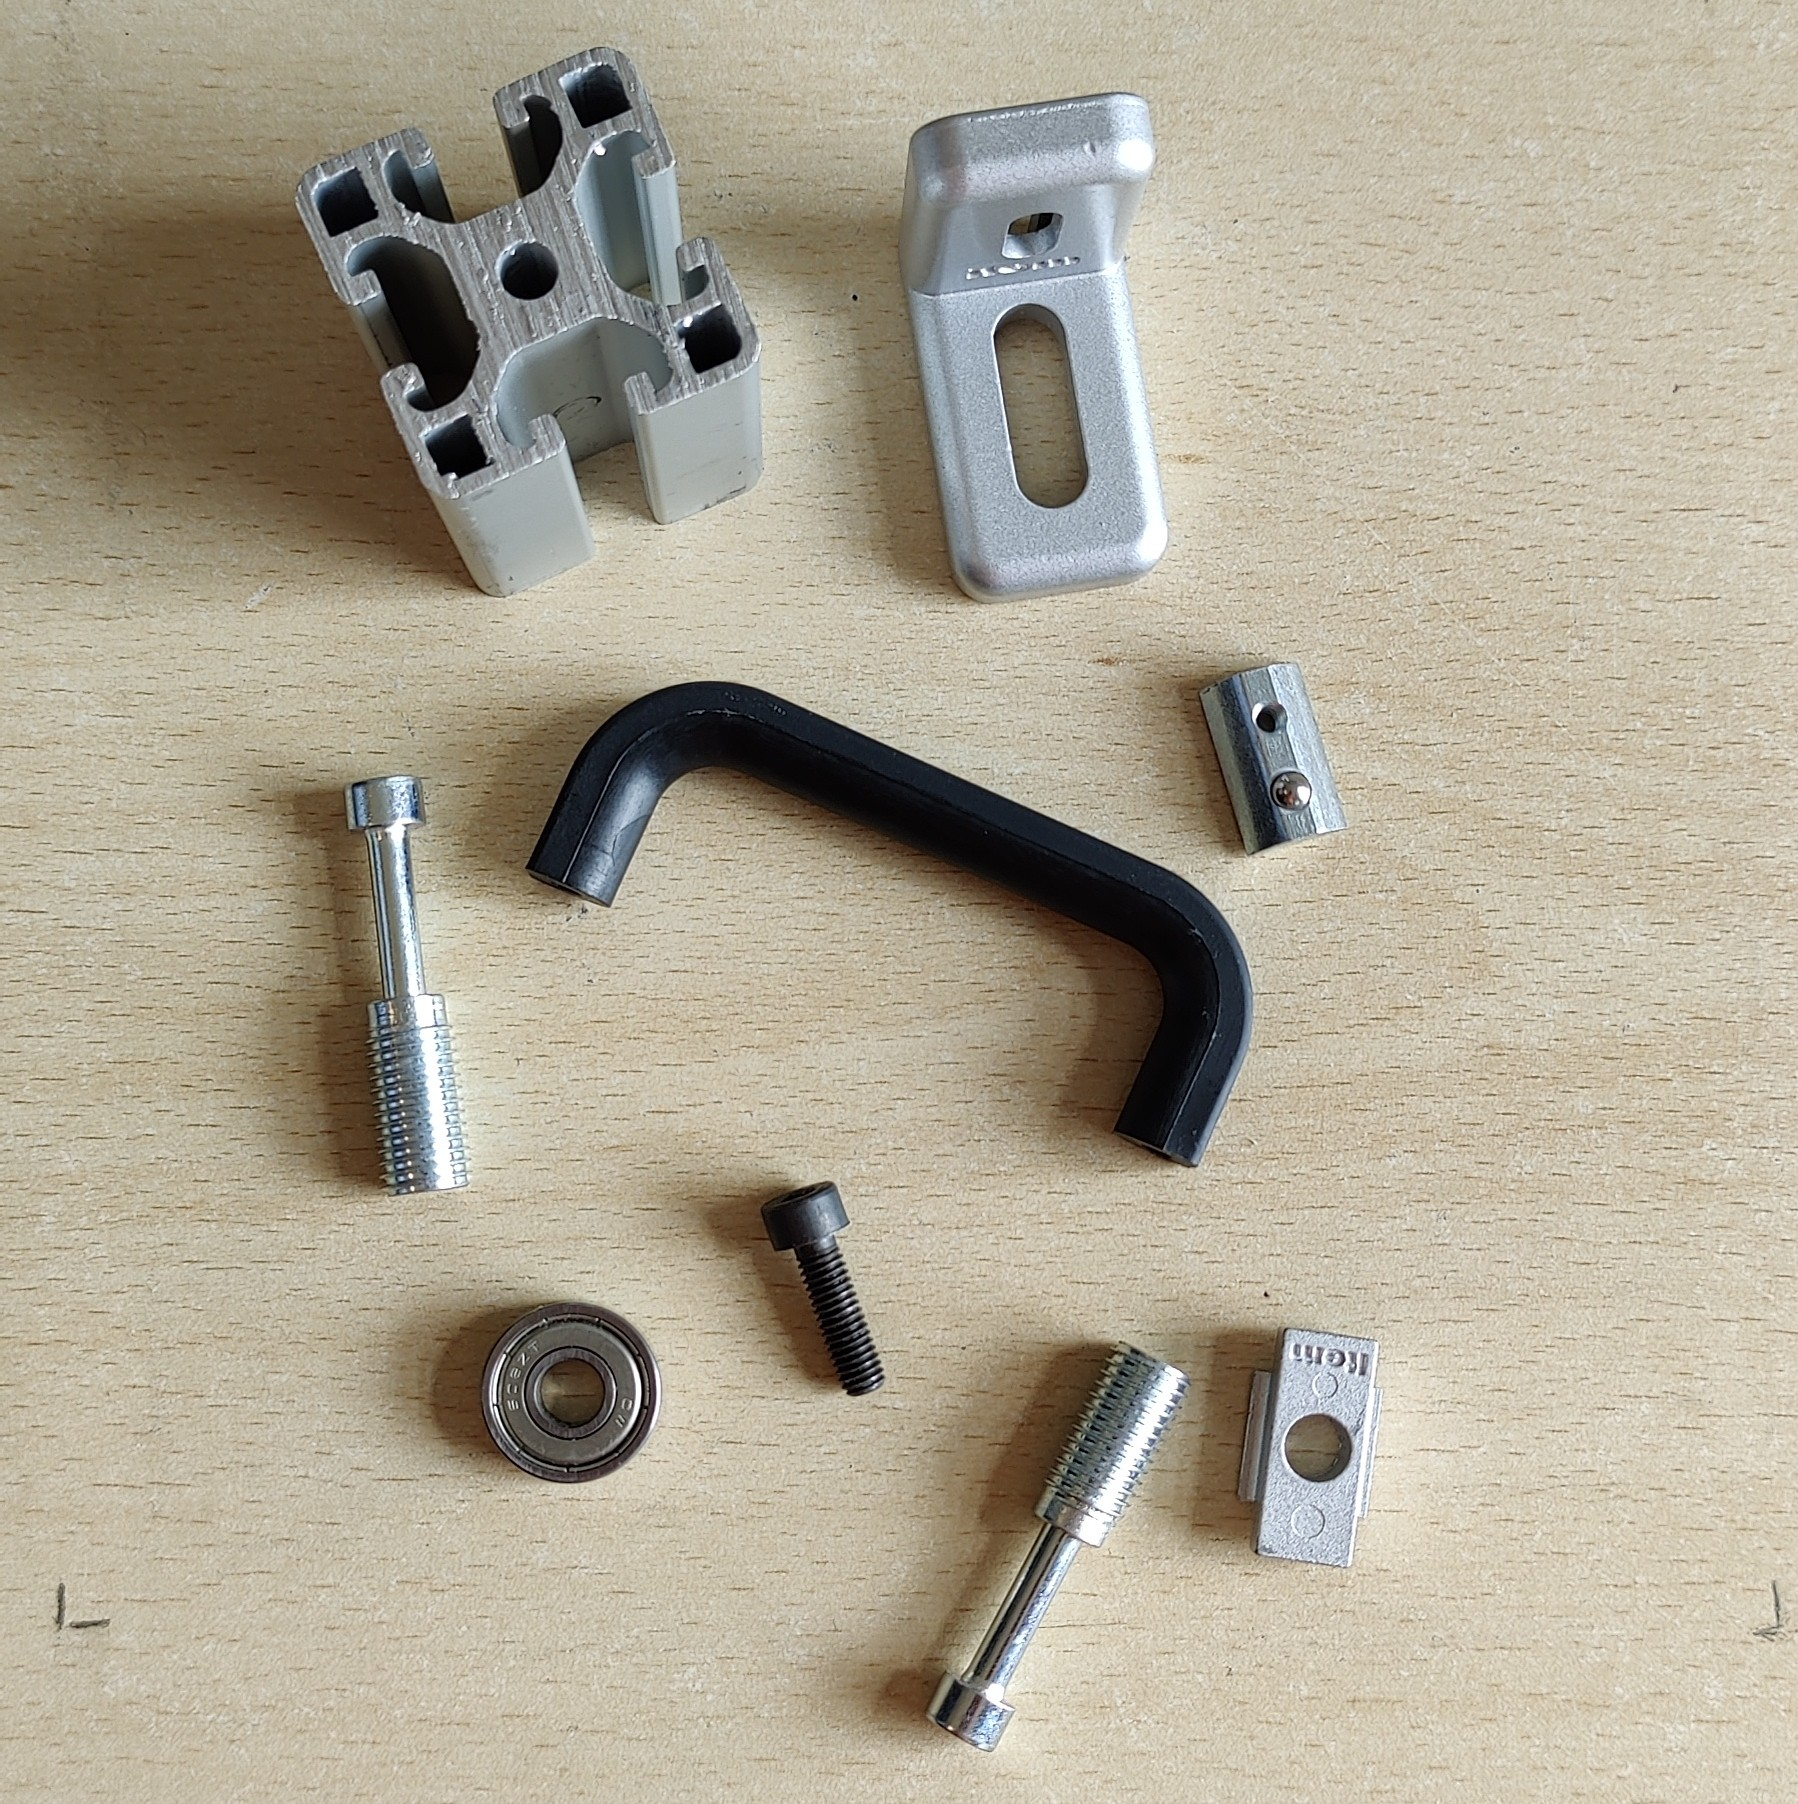Aluminium Extension: (291, 48, 767, 601)
Ball Bearing: (477, 1300, 665, 1488)
Multiwinkel: (896, 91, 1172, 607)
Pull Handle: (524, 678, 1260, 1179)
Shoulder Socket Head Cap Screw: (919, 1338, 1195, 1751), (339, 770, 476, 1200)
Socket Head Cap Screw: (757, 1177, 889, 1401)
T Nut Square: (1228, 1323, 1385, 1570)
T Spring Nut: (1195, 660, 1352, 859)
